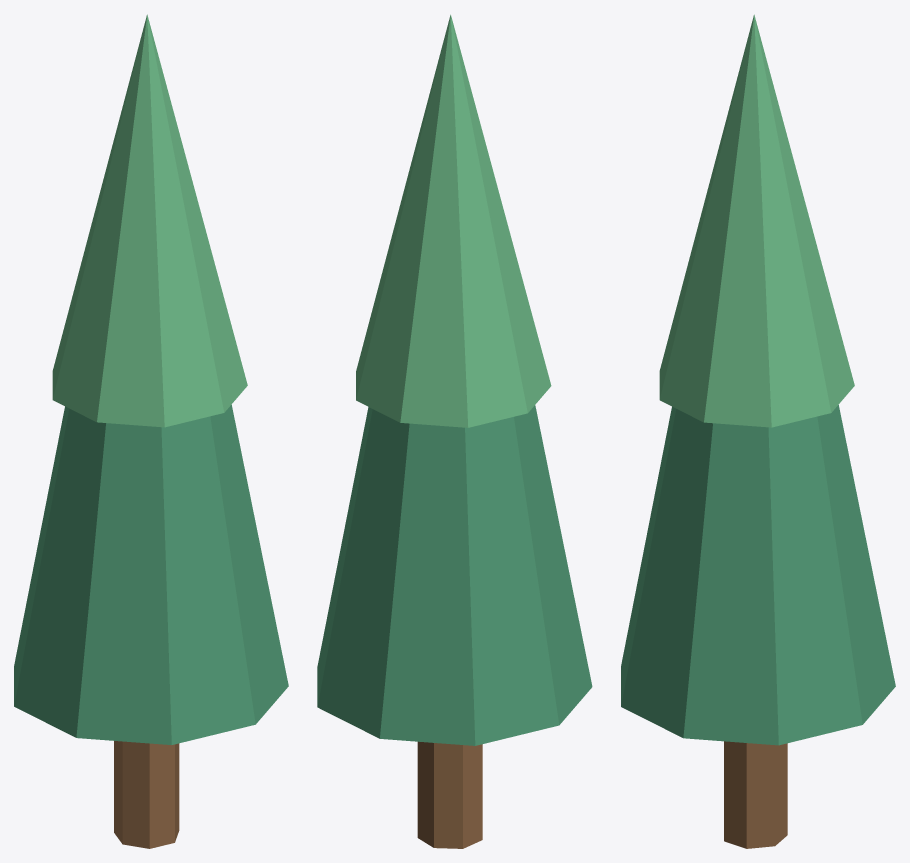
Rendered from NAT_TREE_CYPRESS_1x1_001.glb.
The picture shows the model from 3 angles, left to right: view 1: azimuth 30°, elevation 25°; view 2: azimuth 150°, elevation 25°; view 3: azimuth 270°, elevation 25°; orthographic projection.
Visible parts, largest first — view 1: NAT_TREE_CYPRESS_1x1_001_Visual; view 2: NAT_TREE_CYPRESS_1x1_001_Visual; view 3: NAT_TREE_CYPRESS_1x1_001_Visual.
Boxes of the visible parts, bbox=[...] form: NAT_TREE_CYPRESS_1x1_001_Visual: bbox=[14, 14, 288, 848]; NAT_TREE_CYPRESS_1x1_001_Visual: bbox=[317, 14, 592, 848]; NAT_TREE_CYPRESS_1x1_001_Visual: bbox=[621, 14, 895, 848].
Size of what is drawn, in the model's own units: 0.7485 by 2.43 by 0.7371.
